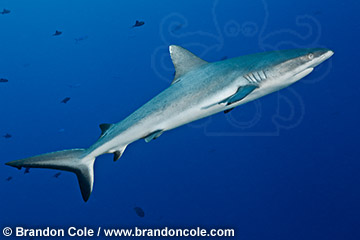Carcharhinus_amblyrhynchos: (4, 42, 336, 206)
